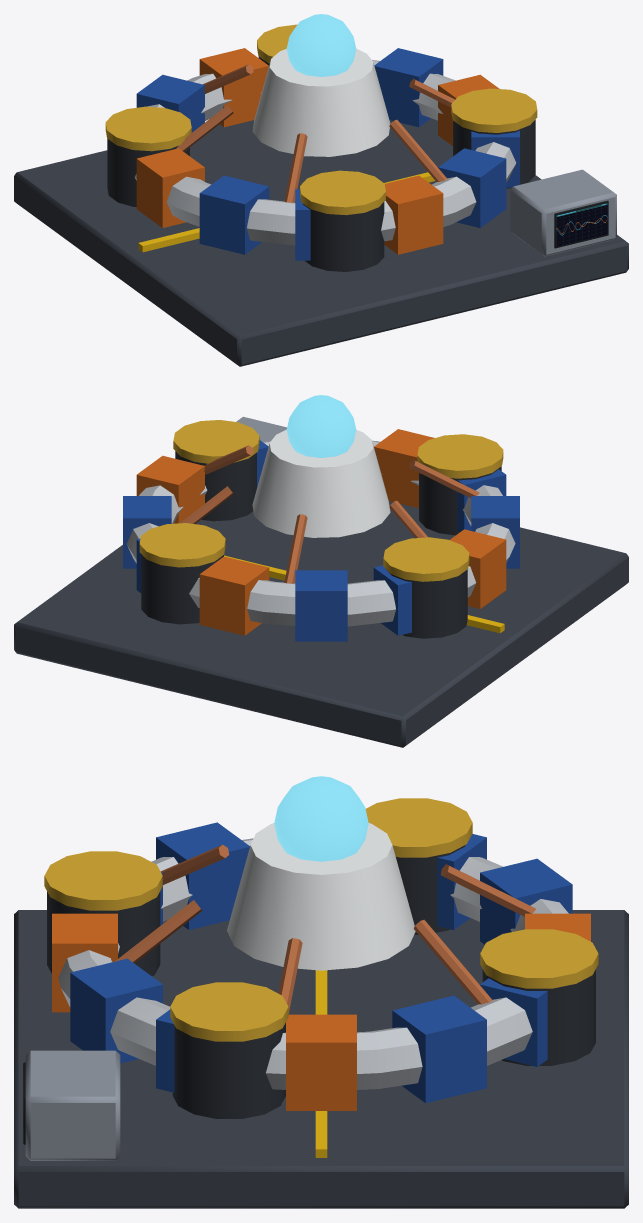
Rendered from particle_mini_collider_ring.glb.
The picture shows the model from 3 angles, top to bottom: view 1: azimuth 30°, elevation 25°; view 2: azimuth 150°, elevation 25°; view 3: azimuth 270°, elevation 25°; orthographic projection. The views are drawn at different scales.
Visible parts, largest first — view 1: particle_mini_collider_ring; view 2: particle_mini_collider_ring; view 3: particle_mini_collider_ring.
Part boxes in pixels (left/top/right/bottom): particle_mini_collider_ring: left=14, top=14, right=628, bottom=366; particle_mini_collider_ring: left=14, top=395, right=628, bottom=747; particle_mini_collider_ring: left=14, top=776, right=628, bottom=1208.
Size of the model in its own units: 2.6 by 1.4 by 2.6.
Materials: 14 (1 with a texture image).
